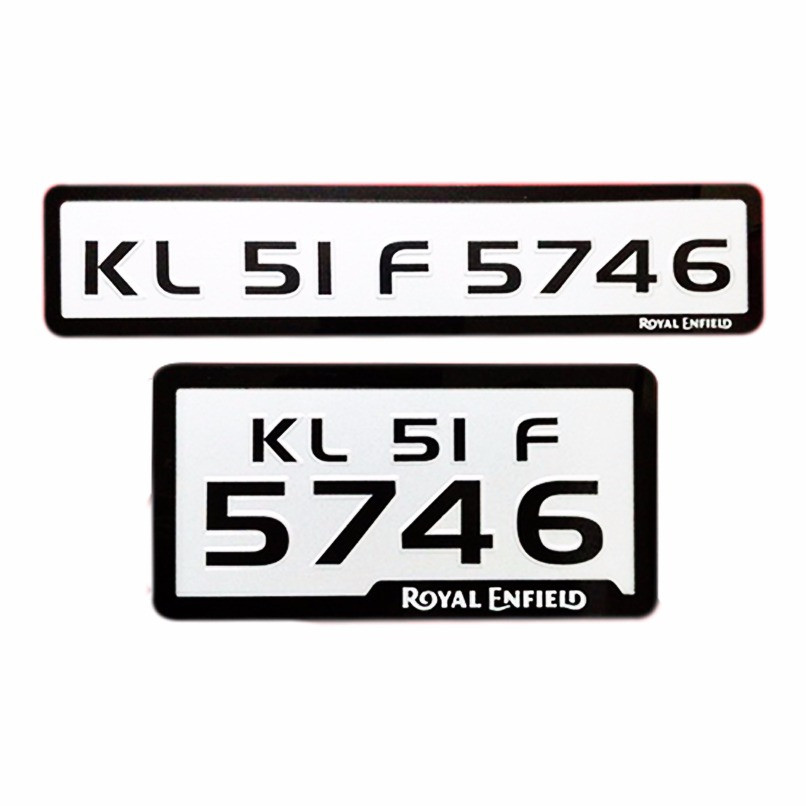number_plate: (148, 360, 658, 624), (43, 183, 765, 333)
